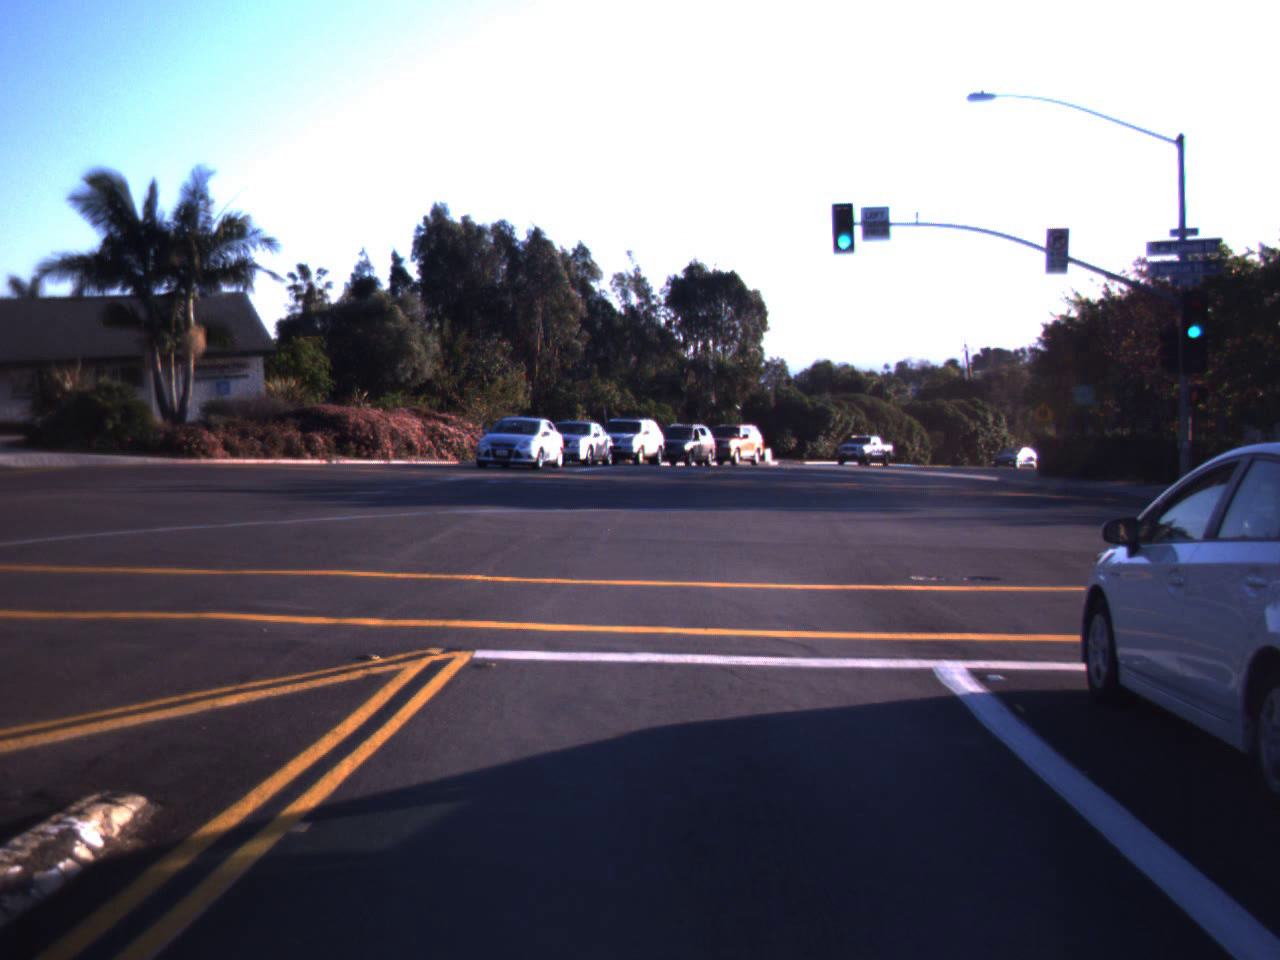go: (832, 190, 859, 255), (1178, 292, 1211, 342)
